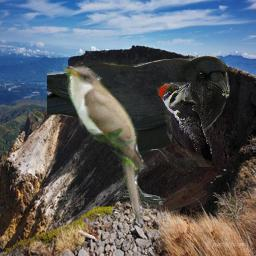Crow: (47, 55, 230, 209)
Cuckoo: (57, 61, 148, 231)
Woodpecker: (156, 82, 212, 167)
